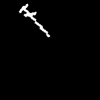double_crochet: (19, 4, 49, 36)
